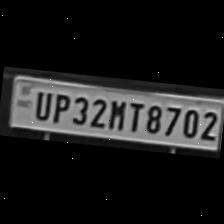0: (177, 104, 200, 138)
2: (197, 106, 220, 142), (88, 93, 108, 128)
3: (68, 92, 90, 125)
7: (161, 101, 182, 136)
8: (142, 99, 164, 134)
M: (106, 95, 127, 130)
P: (49, 90, 70, 122)
T: (124, 98, 144, 134)
U: (31, 86, 52, 120)
